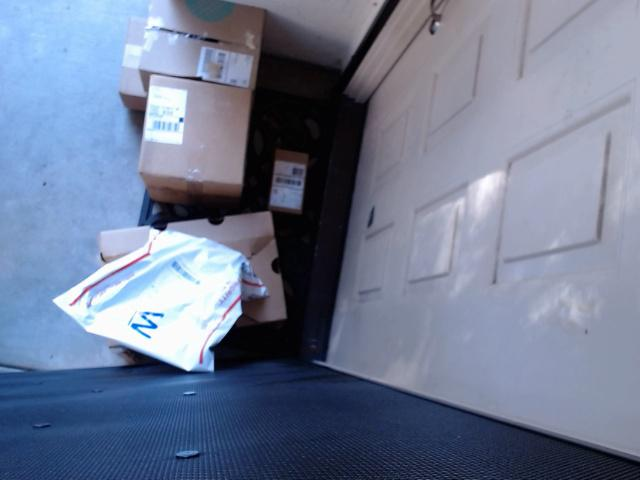box: (96, 212, 310, 334), (112, 5, 285, 110), (134, 77, 257, 210), (269, 140, 326, 224)
plastic_bag: (61, 229, 251, 369)
